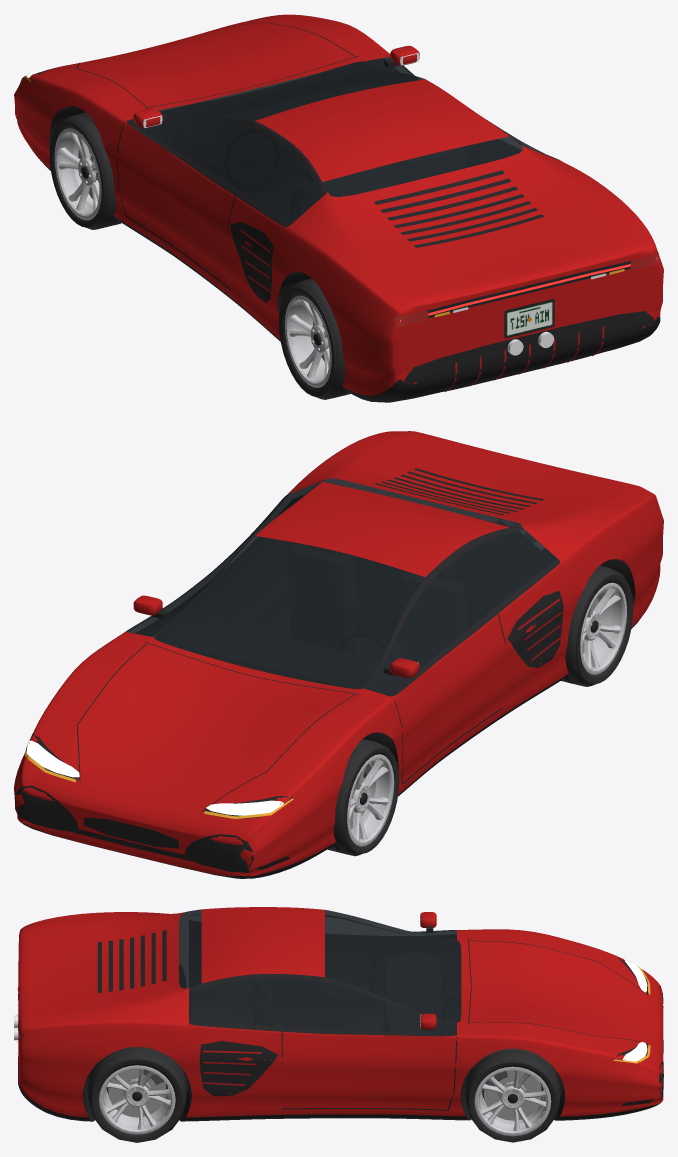
The model's file is sports_car.glb.
The picture shows the model from 3 angles, top to bottom: view 1: azimuth 30°, elevation 25°; view 2: azimuth 150°, elevation 25°; view 3: azimuth 270°, elevation 25°; orthographic projection. The views are drawn at different scales.
Parts seen in each view (by area): view 1: body, wheel_RL, wheel_FL; view 2: body, wheel_RL, wheel_FL; view 3: body, wheel_RR, wheel_FR.
Part boxes in pixels (x1,y1,x2,y2): body: (14,14,663,402); wheel_RL: (278,278,350,399); wheel_FL: (49,112,121,229); body: (14,431,663,878); wheel_RL: (561,565,633,686); wheel_FL: (327,739,399,856); body: (14,907,663,1121); wheel_RR: (88,1047,186,1142); wheel_FR: (465,1048,560,1142).
Bounding box in the file's own units: 1.95 × 1.15 × 4.53.
Materials: 15 (1 with a texture image).
